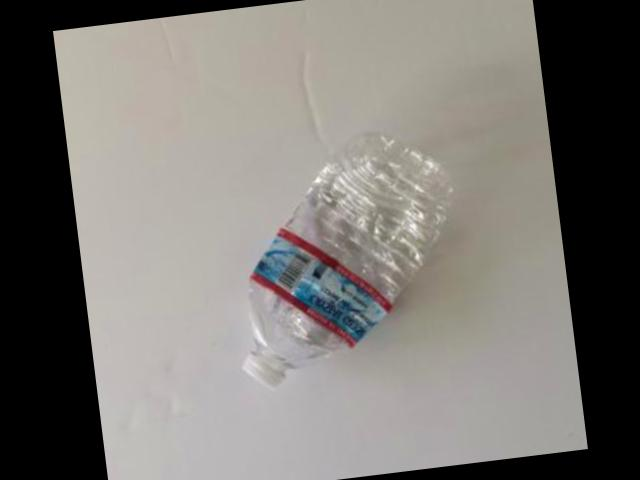plastic: (245, 134, 454, 388)
